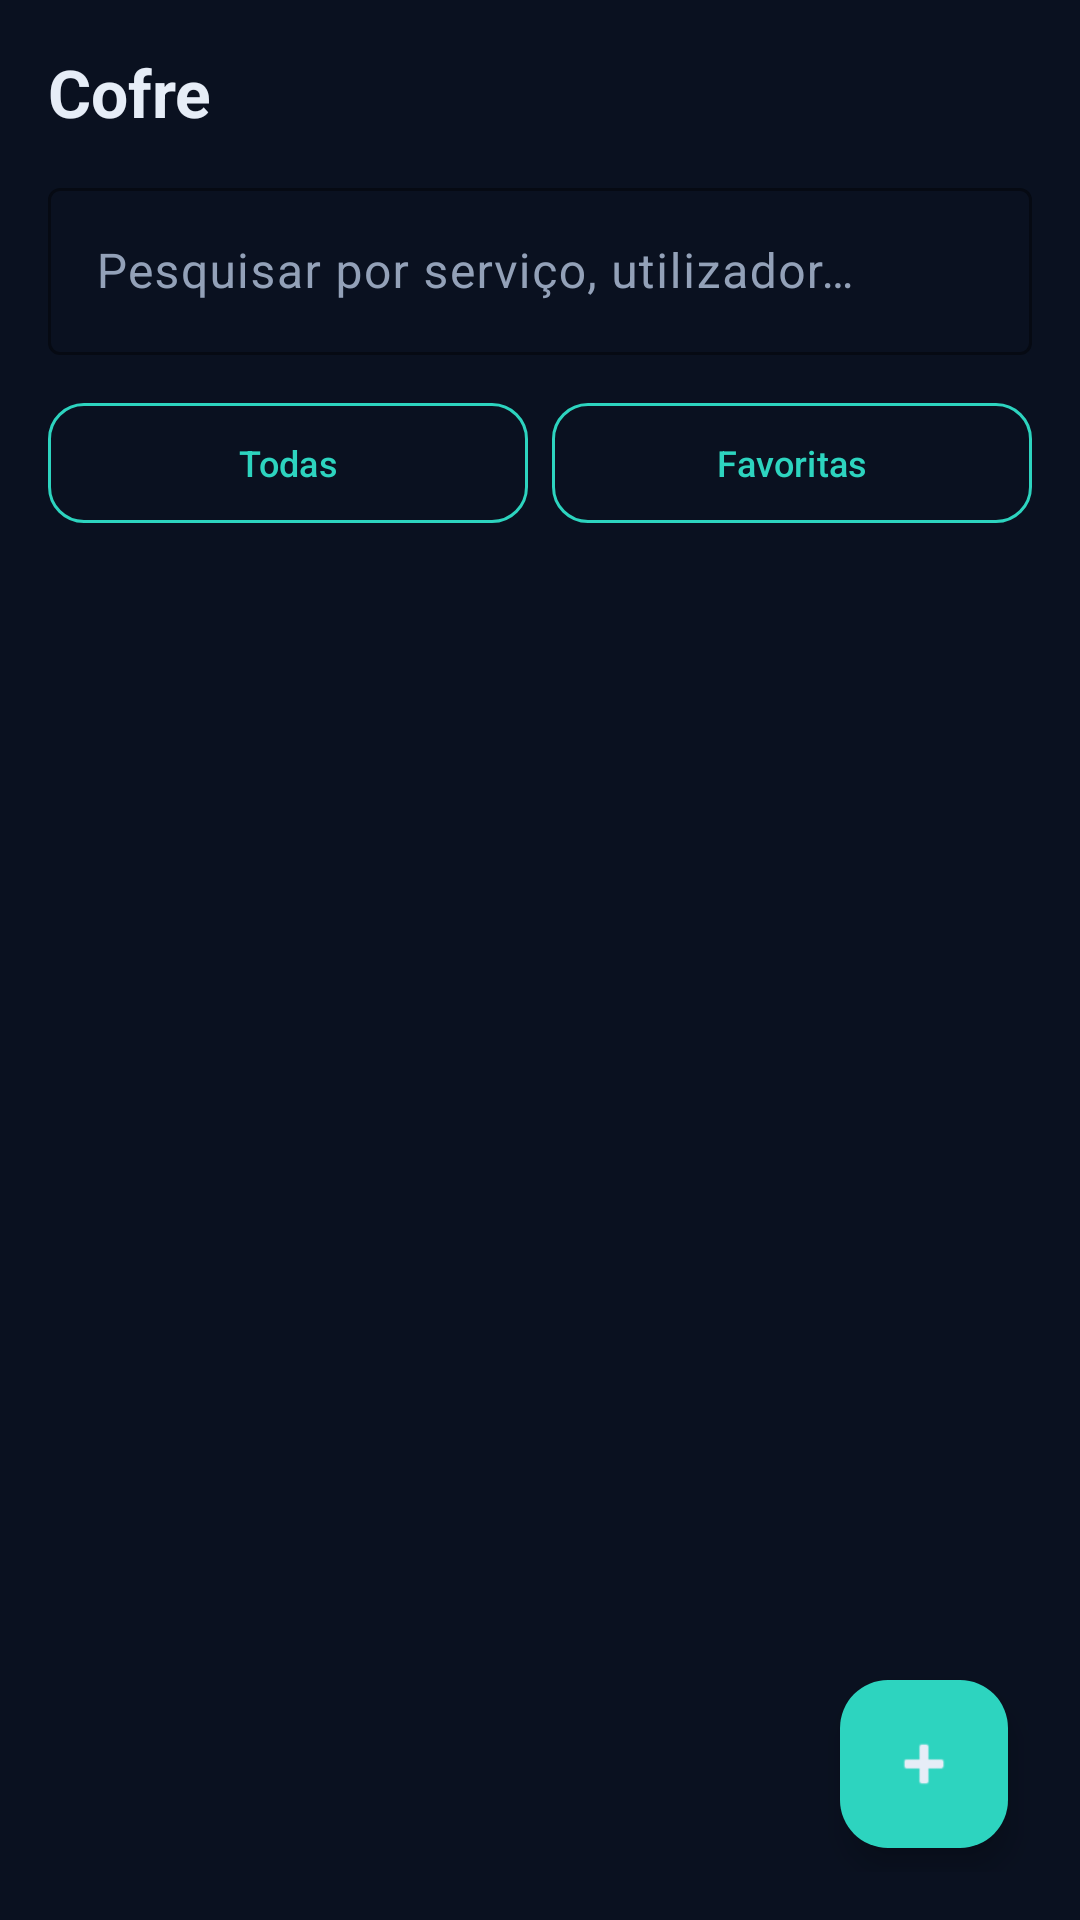

Locate icon controls on the screen. Image size 1080px x 1920px, boxes as Rect(x1, y1, x2, y2).
Nova credencial: Rect(840, 1680, 1008, 1848)
